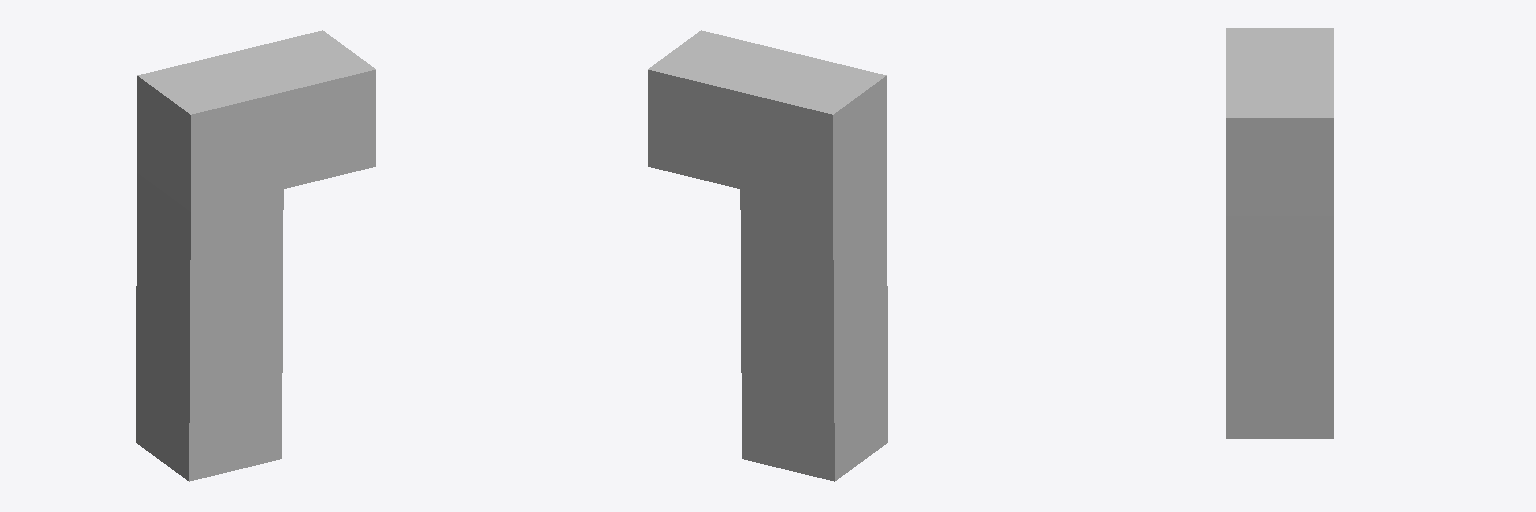
File: receptor-angle.obj
3 renders of one model, left to right at view 1: azimuth 30°, elevation 25°; view 2: azimuth 150°, elevation 25°; view 3: azimuth 270°, elevation 25°, orthographic.
Parts seen in each view (by area): view 1: corner_Cube.004; view 2: corner_Cube.004; view 3: corner_Cube.004.
Boxes of the visible parts, <box> form: corner_Cube.004: <box>136,30,375,481</box>; corner_Cube.004: <box>648,30,887,481</box>; corner_Cube.004: <box>1226,28,1333,438</box>.
Size of the model in its own units: 4.04 by 7.55 by 2.